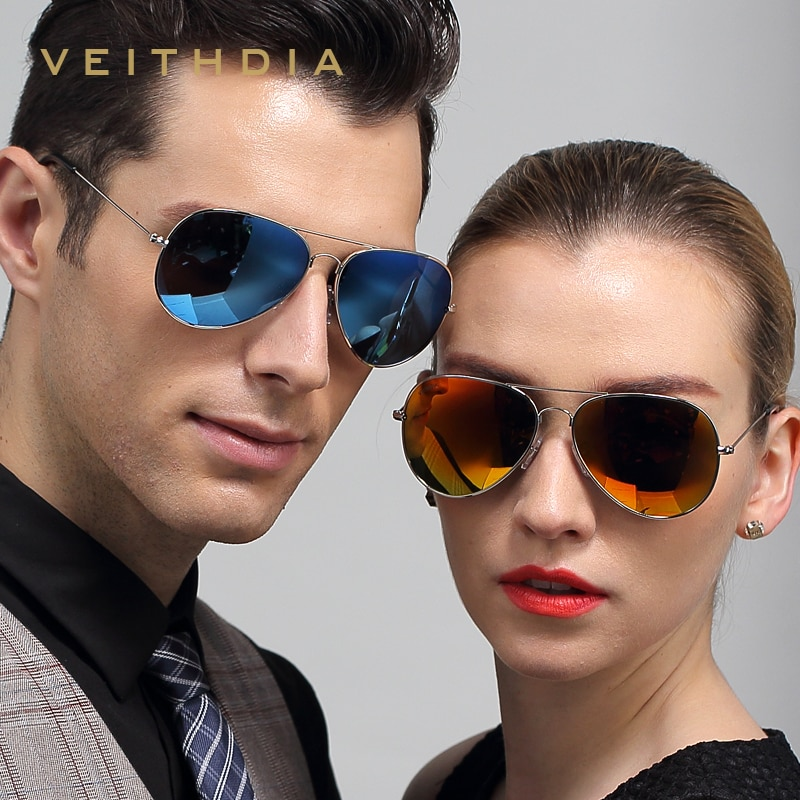sunglasses: (71, 167, 456, 369), (380, 368, 777, 518)
